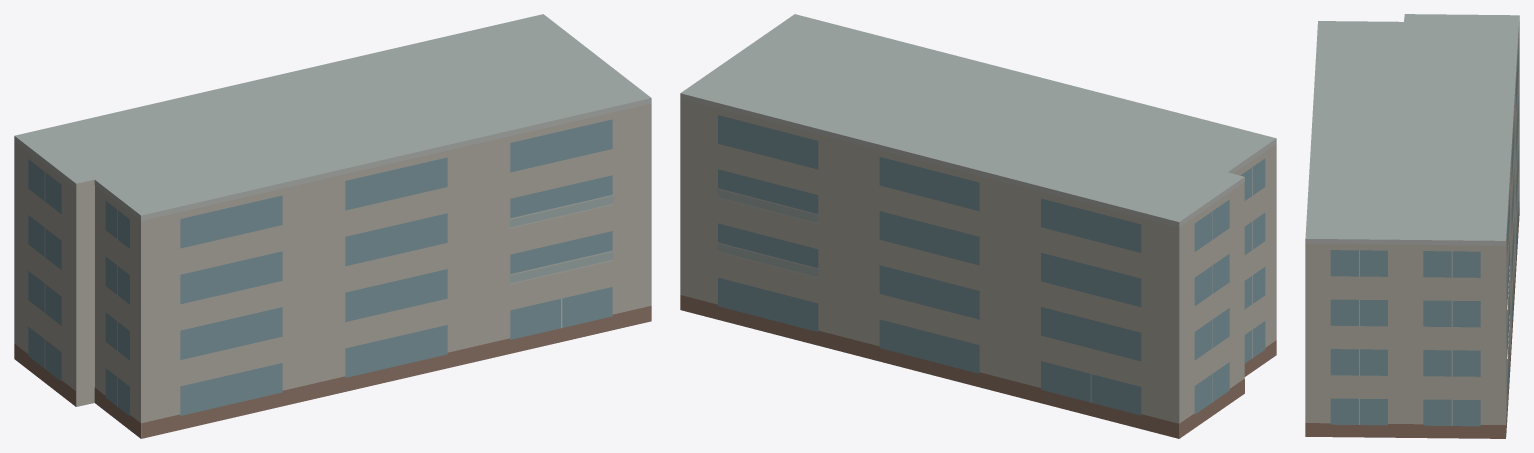
File: survey-upis-32503116.glb
The picture shows the model from 3 angles, left to right: view 1: azimuth 30°, elevation 25°; view 2: azimuth 150°, elevation 25°; view 3: azimuth 270°, elevation 25°; orthographic projection. The views are drawn at different scales.
Visible parts, largest first — view 1: survey-upis-32503116.tmp; view 2: survey-upis-32503116.tmp; view 3: survey-upis-32503116.tmp.
Boxes of the visible parts, x1,y1,x2,y2 form: survey-upis-32503116.tmp: (14,14,651,438); survey-upis-32503116.tmp: (680,14,1276,438); survey-upis-32503116.tmp: (1305,14,1519,438).
Size of the model in its own units: 24.59 by 10 by 9.81.
